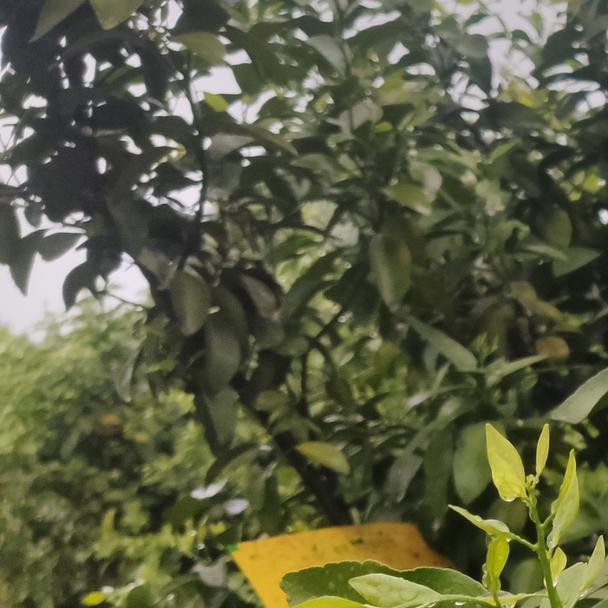shoot: (467, 421, 596, 602)
